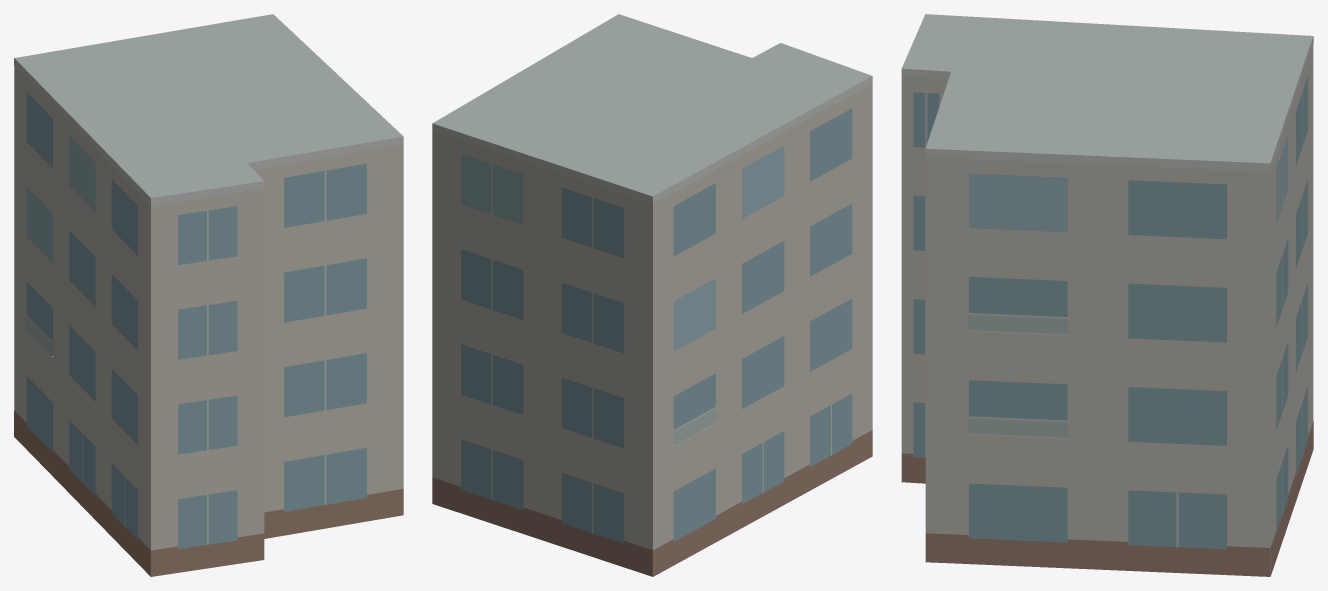
The model's file is survey-upis-32811173.glb.
3 views of the same model, side by side, from view 1: azimuth 30°, elevation 25°; view 2: azimuth 150°, elevation 25°; view 3: azimuth 270°, elevation 25° (orthographic). The views are drawn at different scales.
Parts seen in each view (by area): view 1: survey-upis-32811173.tmp; view 2: survey-upis-32811173.tmp; view 3: survey-upis-32811173.tmp.
Part boxes in pixels (left/top/right/bottom): survey-upis-32811173.tmp: left=14, top=14, right=403, bottom=576; survey-upis-32811173.tmp: left=432, top=14, right=872, bottom=576; survey-upis-32811173.tmp: left=901, top=14, right=1313, bottom=576.
Bounding box in the file's own units: 9.39 × 12.1 × 10.93.
